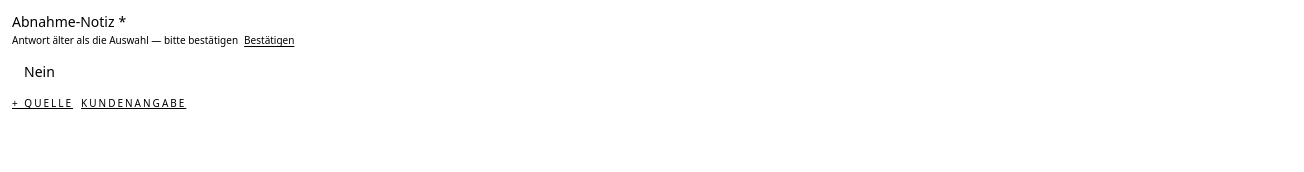
it: DynamicField — stale answer badge (U-1) › typing into the field removes the badge
In the field: point(652, 72) [12,54,1292,90], type "x"
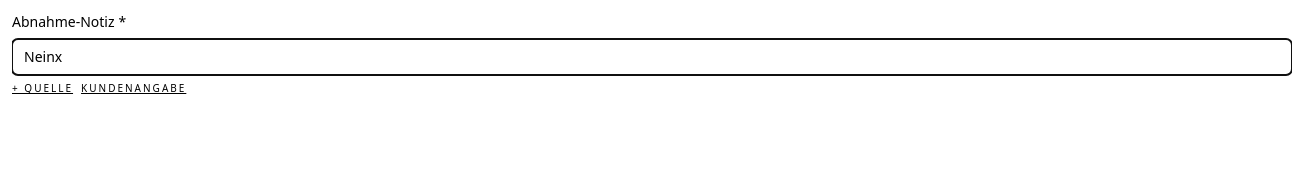
Expected: the element with test id "stale-answer-badge" is gone
